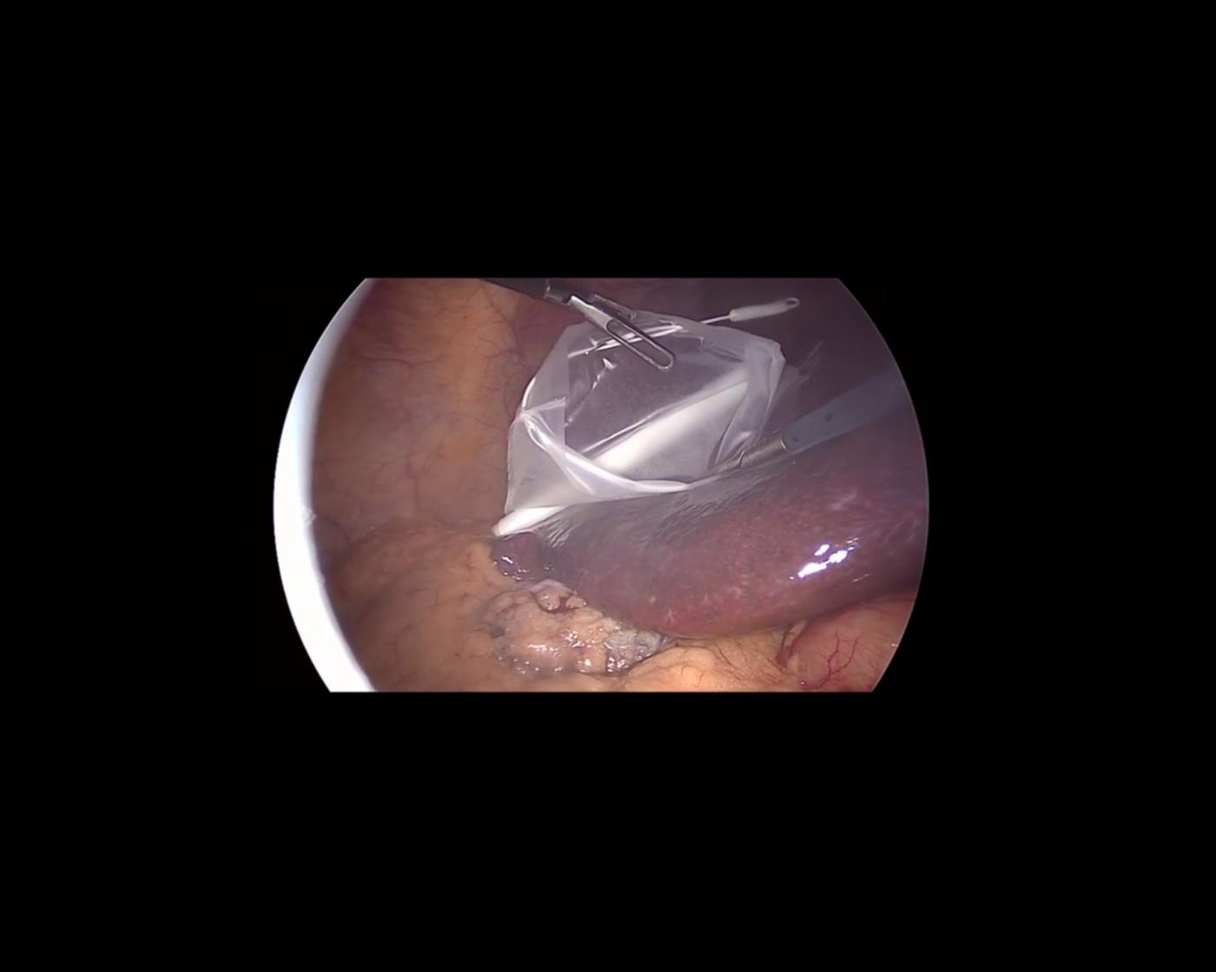Bag: (449, 270, 840, 539)
Forceps: (476, 248, 689, 376), (697, 367, 913, 492)
Gallbladder: (470, 563, 686, 729)
Liver: (489, 407, 959, 697)
